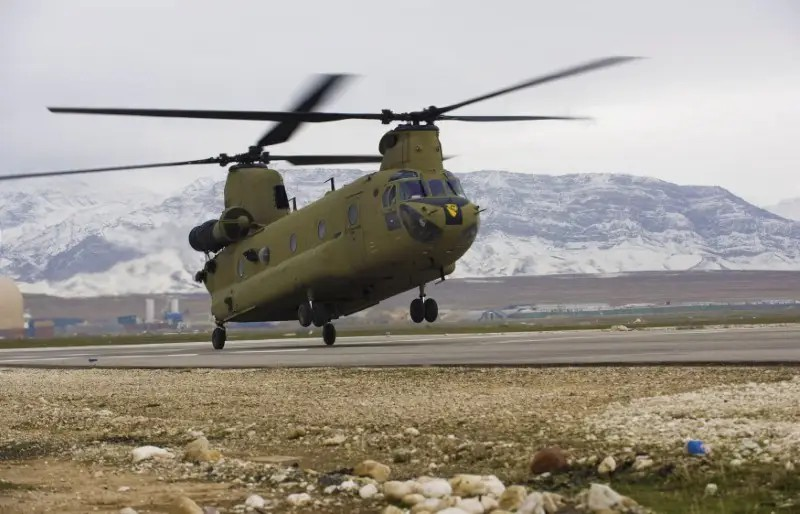chinook: (92, 68, 545, 361)
